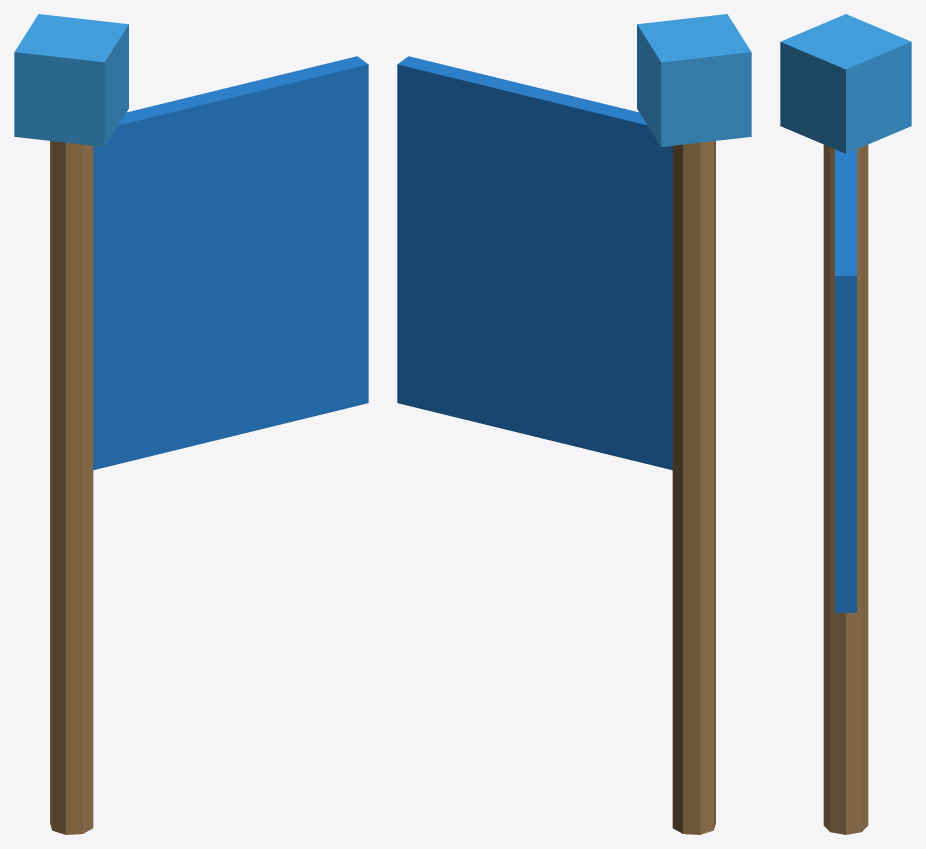
The model's file is city-module-banner-lod0.glb.
3 renders of one model, left to right at view 1: azimuth 30°, elevation 25°; view 2: azimuth 150°, elevation 25°; view 3: azimuth 270°, elevation 25°, orthographic.
Visible parts, largest first — view 1: module_banner_cloth, module_banner_pole, module_banner_gold_top; view 2: module_banner_cloth, module_banner_pole, module_banner_gold_top; view 3: module_banner_pole, module_banner_gold_top, module_banner_cloth.
Part boxes in pixels (x1,y1,x2,y2): module_banner_cloth: [93, 56, 368, 470]; module_banner_pole: [50, 141, 93, 834]; module_banner_gold_top: [14, 14, 128, 146]; module_banner_cloth: [397, 56, 672, 470]; module_banner_pole: [672, 141, 715, 834]; module_banner_gold_top: [637, 14, 751, 146]; module_banner_pole: [823, 144, 868, 834]; module_banner_gold_top: [780, 14, 911, 153]; module_banner_cloth: [835, 149, 856, 612].
Bounding box in the file's own units: 0.2154 × 0.465 × 0.0707.
